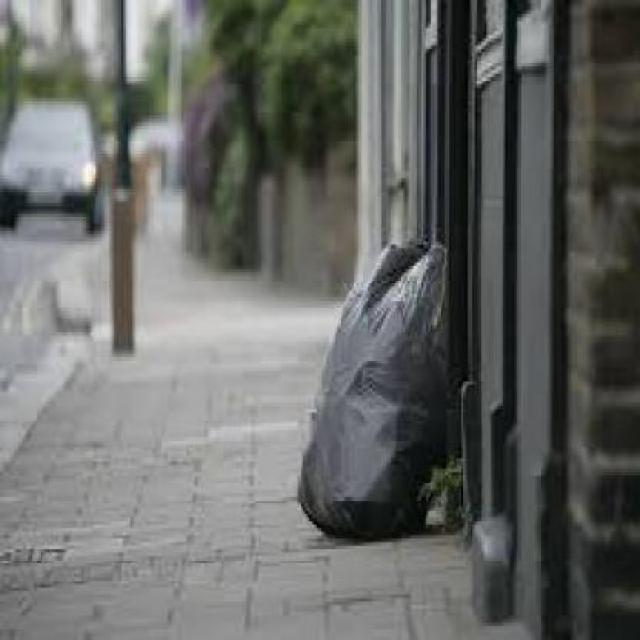garbage: (291, 231, 449, 550)
